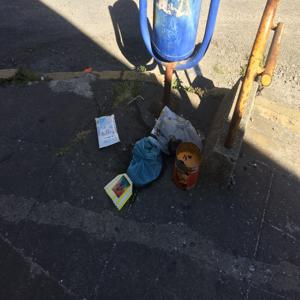cardboard: (89, 108, 123, 151), (108, 170, 132, 208)
metal: (174, 144, 200, 190)
plastic: (144, 105, 202, 145), (128, 133, 170, 187)
